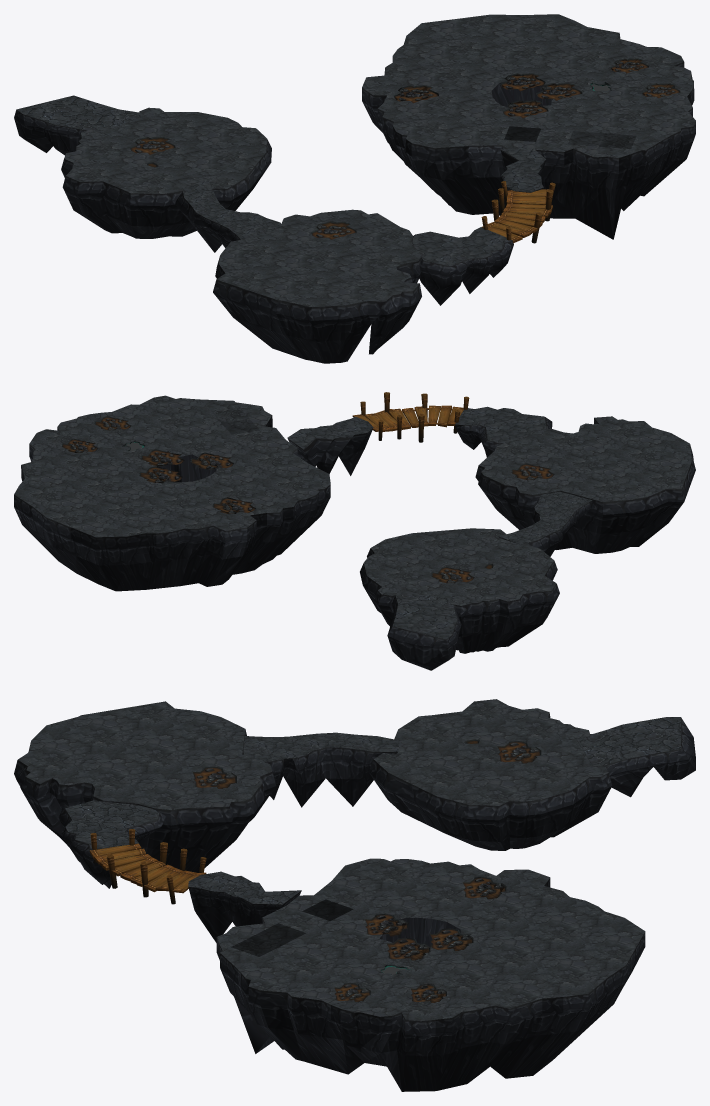
The model's file is Mine_dimian01.FBX.
The picture shows the model from 3 angles, top to bottom: view 1: azimuth 30°, elevation 25°; view 2: azimuth 150°, elevation 25°; view 3: azimuth 270°, elevation 25°; orthographic projection. The views are drawn at different scales.
Visible parts, largest first — view 1: dizuo01, dizuo02, dizuo03, qiao; view 2: dizuo01, dizuo02, dizuo03, qiao; view 3: dizuo01, dizuo02, dizuo03, qiao.
Boxes of the visible parts, left/top/right/bottom form: dizuo01: left=362, top=14, right=695, bottom=239; dizuo02: left=213, top=209, right=421, bottom=363; dizuo03: left=61, top=107, right=271, bottom=238; qiao: left=14, top=95, right=555, bottom=305; dizuo01: left=14, top=395, right=330, bottom=591; dizuo02: left=475, top=416, right=695, bottom=553; dizuo03: left=360, top=528, right=559, bottom=653; qiao: left=287, top=392, right=593, bottom=670; dizuo01: left=216, top=858, right=645, bottom=1091; dizuo02: left=14, top=701, right=276, bottom=872; dizuo03: left=368, top=699, right=612, bottom=850; qiao: left=58, top=717, right=695, bottom=942.
Bounding box in the file's own units: 26.16 × 4.85 × 23.1.
